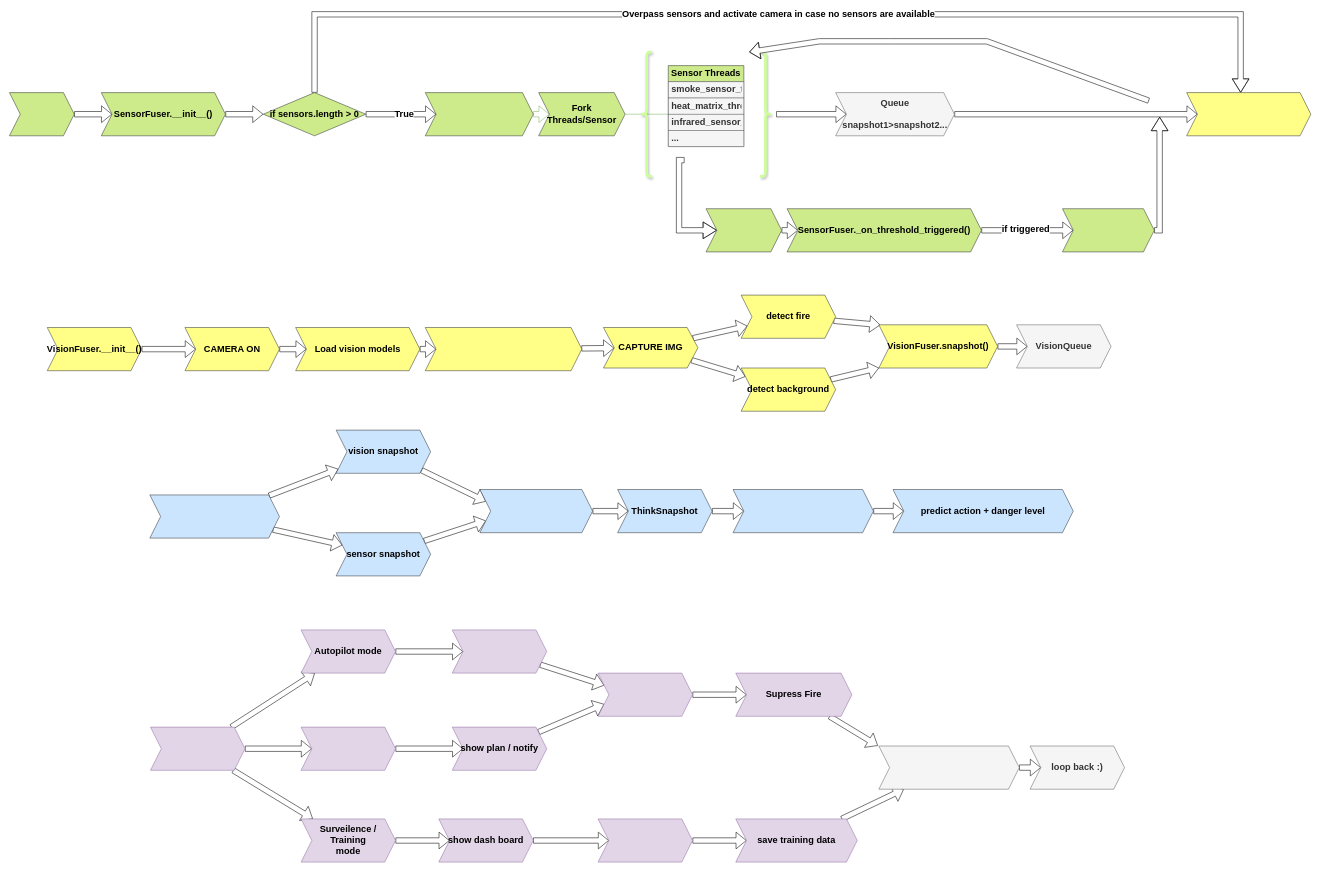
This 1320x872 diagram has some shape labels left out. The shapes that lost their labels are listed below. From the top down, each one's centre as x and y in pixels, then its label:
(x=41, y=114): STARTUP
(x=479, y=114): SensorFuser.start()
(x=1248, y=114): Activate see module
(x=744, y=230): sensor.poll()
(x=1108, y=230): UpdateSnapshot
(x=503, y=349): VisionFuser.capture_loop()
(x=214, y=516): ThinkEngine.__init__()
(x=536, y=511): Calculate avarages
(x=803, y=511): Machine learning model
(x=499, y=651): excute
(x=645, y=694): Activate Alarm
(x=197, y=748): Act Layer
(x=348, y=748): Copilot mode
(x=948, y=767): Update database for future trainings
(x=645, y=840): human feedback
